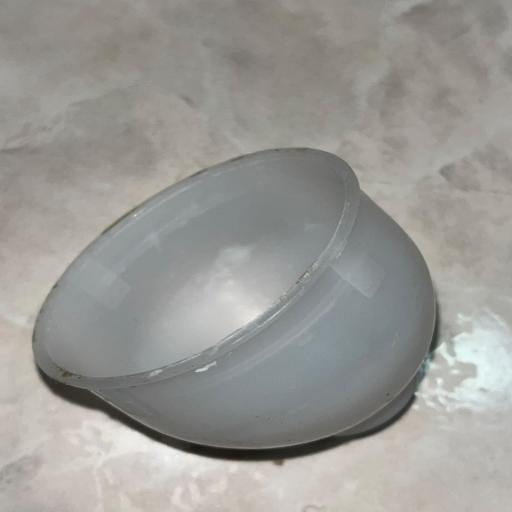PET: (15, 112, 491, 512)
